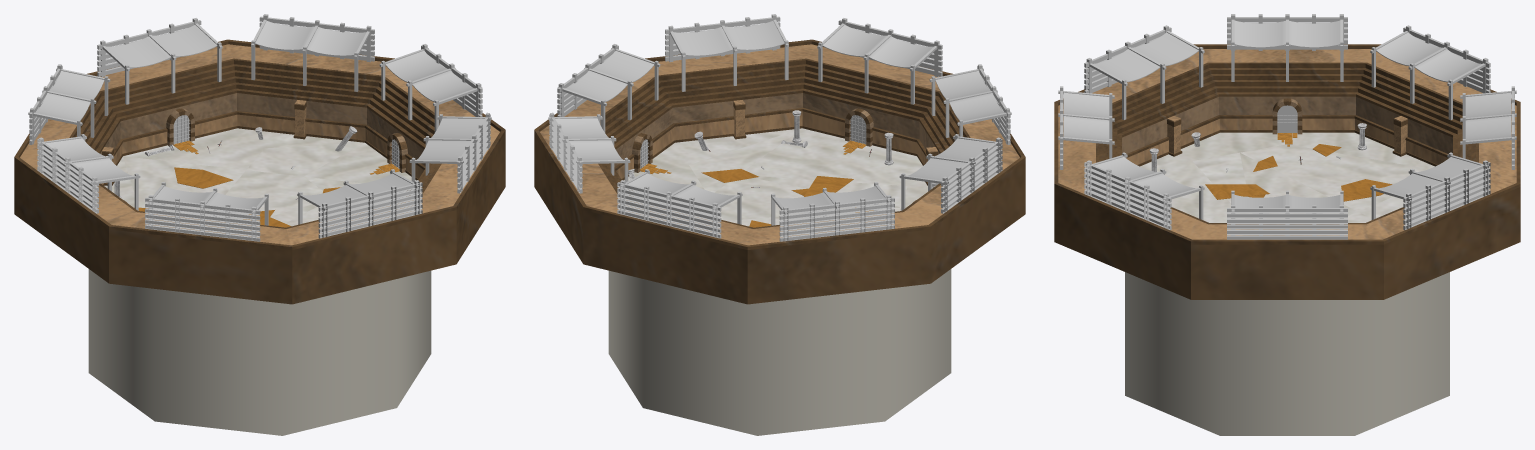
The model's file is Map_01.fbx.
3 renders of one model, left to right at view 1: azimuth 30°, elevation 25°; view 2: azimuth 150°, elevation 25°; view 3: azimuth 270°, elevation 25°, orthographic.
Visible parts, largest first — view 1: Map_01; view 2: Map_01; view 3: Map_01.
Part boxes in pixels (x1,y1,x2,y2): Map_01: (14,14,505,435); Map_01: (534,14,1025,435); Map_01: (1054,14,1520,435).
Bounding box in the file's own units: 7157 × 4352 × 7157.
